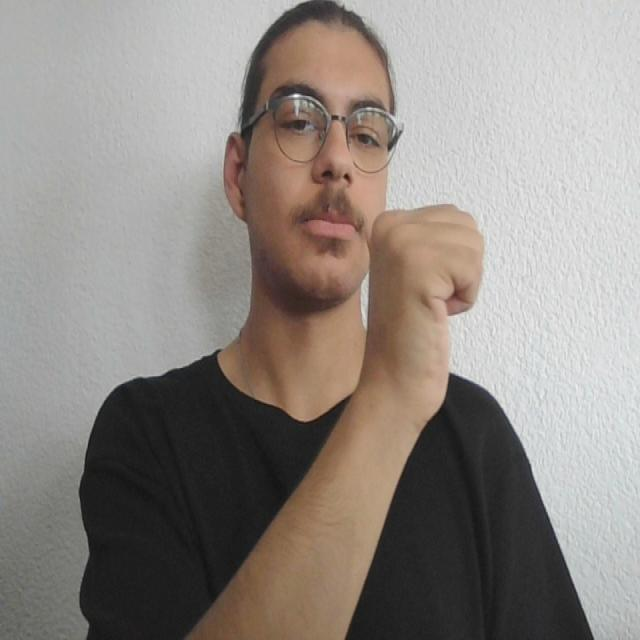icmek: (338, 168, 619, 383)
